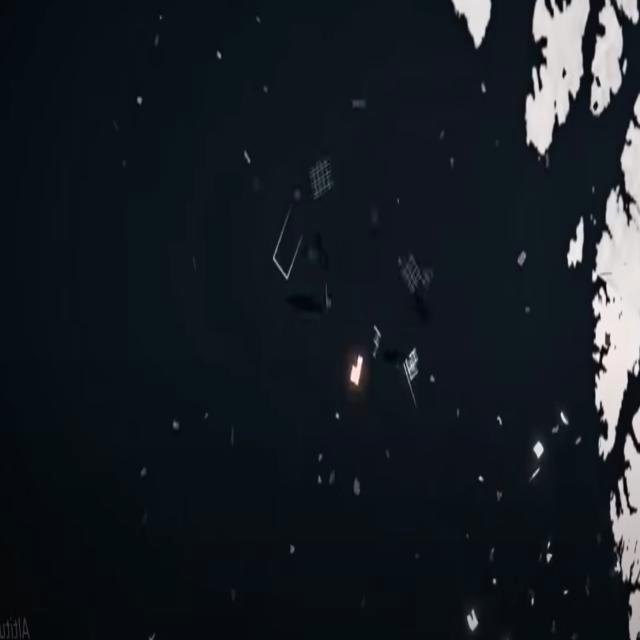large_debris: (268, 191, 308, 309), (302, 135, 339, 217), (402, 249, 434, 299), (404, 330, 425, 404), (368, 313, 389, 379), (525, 436, 549, 476), (350, 341, 362, 405), (461, 604, 480, 640), (328, 404, 340, 428)
